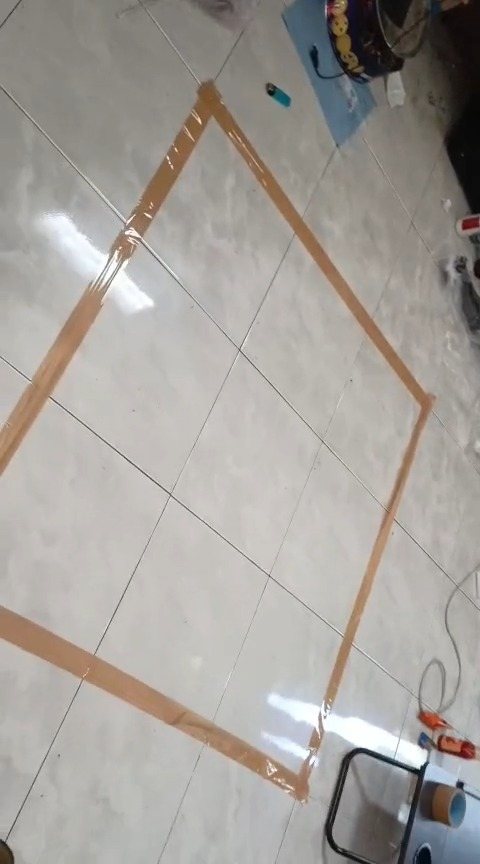floor marking: (0, 82, 433, 799)
